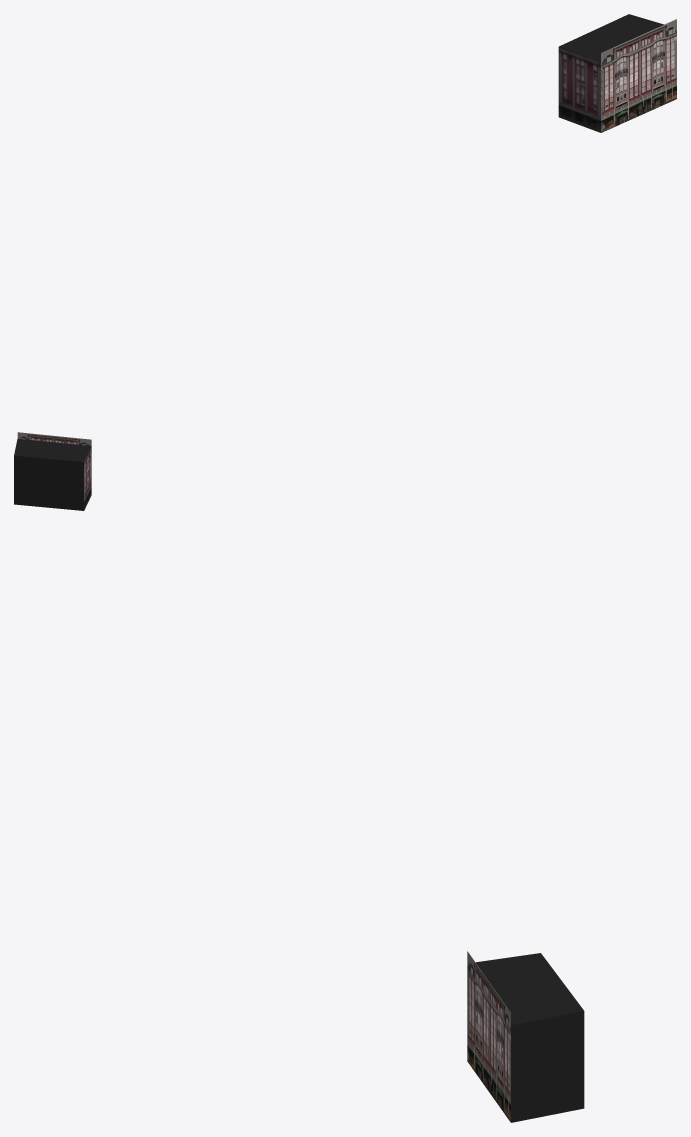
File: B_Werth_67_69.FBX
The picture shows the model from 3 angles, top to bottom: view 1: azimuth 30°, elevation 25°; view 2: azimuth 150°, elevation 25°; view 3: azimuth 270°, elevation 25°; orthographic projection. The views are drawn at different scales.
Parts seen in each view (by area): view 1: B_Werth_67_69_Front, B_Werth_67_69_Side, B_Werth_67_69; view 2: B_Werth_67_69, B_Werth_67_69_Front, B_Werth_67_69_Side; view 3: B_Werth_67_69, B_Werth_67_69_Front.
Part boxes in pixels (left/top/right/bottom): B_Werth_67_69_Front: left=601, top=19, right=676, bottom=132; B_Werth_67_69_Side: left=558, top=47, right=600, bottom=132; B_Werth_67_69: left=559, top=14, right=663, bottom=61; B_Werth_67_69: left=14, top=438, right=91, bottom=510; B_Werth_67_69_Front: left=17, top=432, right=91, bottom=445; B_Werth_67_69_Side: left=84, top=447, right=91, bottom=510; B_Werth_67_69: left=476, top=953, right=584, bottom=1122; B_Werth_67_69_Front: left=467, top=951, right=510, bottom=1122.
Bounding box in the file's own units: 22729 × 2151 × 8419.
4 materials, 2 textured.
